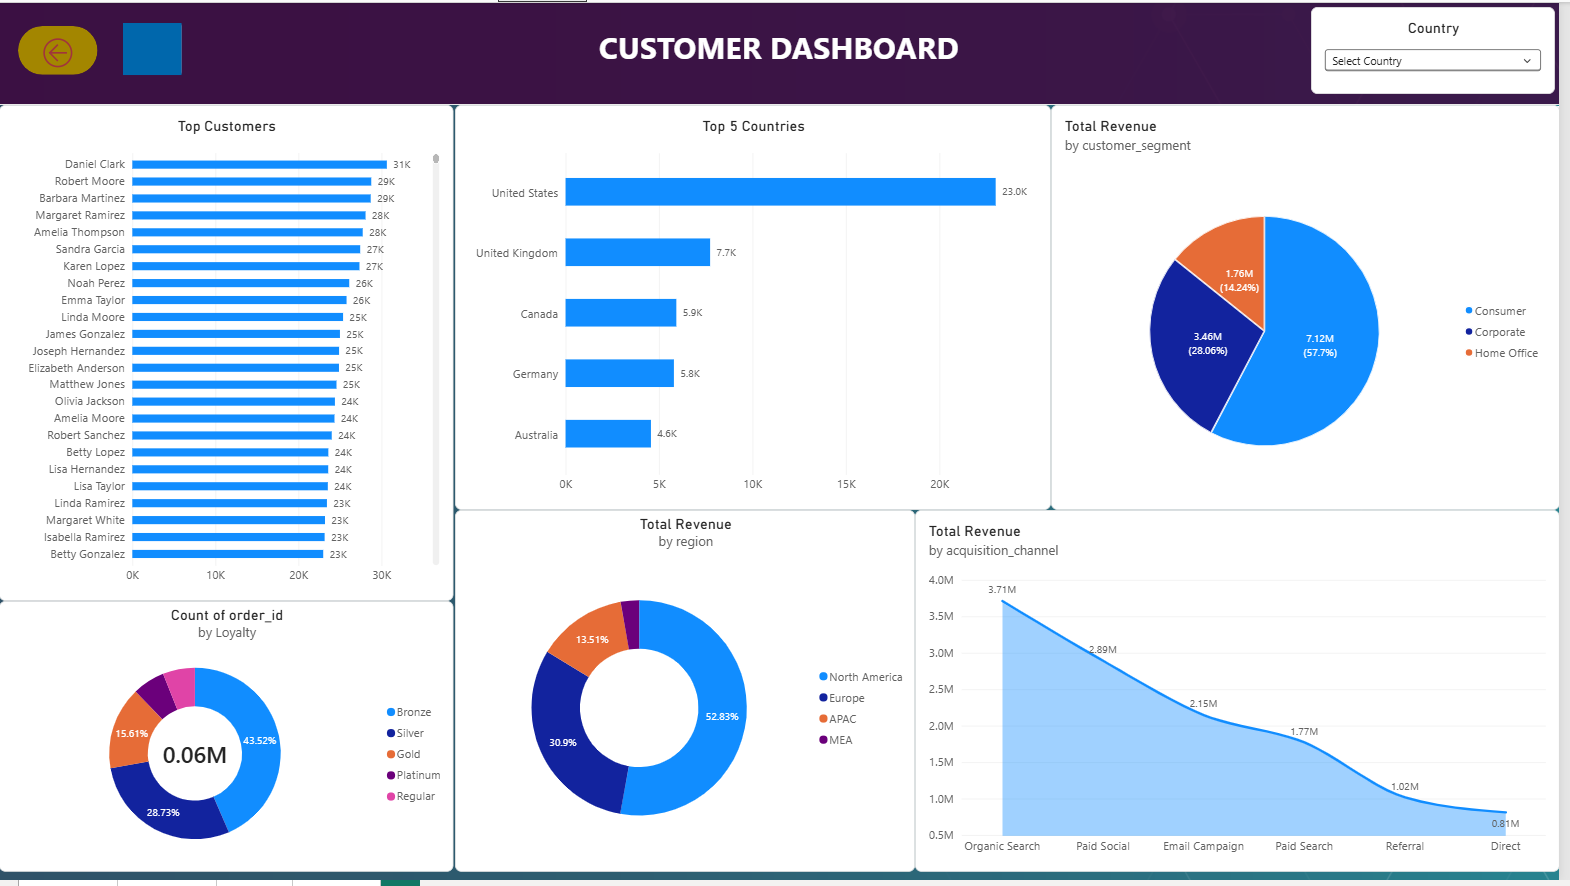

This screenshot's page, from the dashboard's own definition file:
{"tool":"powerbi","page":{"name":"Customers","canvas":[1920,1080],"ordinal":1},"visuals":[{"type":"barChart","title":"Top Customers","fields":{"Category":["Customers.full_name"],"Y":["Orders.Total Revenue"]},"box":[0,126.5,558.6,610],"z":0},{"type":"shape","box":[0,0,1920,126.5],"z":1000},{"type":"listSlicer","fields":{"Values":["Customers.country"]},"box":[1613.5,6.5,300,107],"z":2000},{"type":"actionButton","box":[23.5,30,97.8,60],"z":3000},{"type":"textbox","box":[710.9,30,497,80.9],"z":4000},{"type":"donutChart","fields":{"Category":["Customers.loyalty_tier"],"Y":["CountNonNull(Orders.order_id)"]},"box":[0,737,559,333],"z":5000},{"type":"clusteredBarChart","title":"Top 5 Countries","fields":{"Category":["Customers.country"],"Y":["CountNonNull(Orders.order_id)"]},"box":[560.9,126.5,733,498.3],"z":6000},{"type":"pieChart","fields":{"Category":["Customers.region"],"Y":["Orders.Total Revenue"]},"box":[560.9,624.8,566.1,444.8],"z":7000},{"type":"pieChart","fields":{"Category":["Customers.customer_segment"],"Y":["Orders.Total Revenue"]},"box":[1293.9,126.5,626.1,498.3],"z":8000},{"type":"areaChart","fields":{"Category":["Customers.acquisition_channel"],"Y":["Orders.Total Revenue"]},"box":[1126.8,624.4,793.2,444.8],"z":9000},{"type":"actionButton","box":[152.7,25.5,72.4,64.3],"z":10000}]}

Visuals, with their boxes in screenshot pixels (x1, y1, x2, y2), scaled from the page's 1920x1080 canvas onto the 1570x886 screenshot:
"Top Customers" barChart: [x1=0, y1=104, x2=457, y2=604]
shape: [x1=0, y1=0, x2=1569, y2=104]
listSlicer - Customers.country: [x1=1319, y1=5, x2=1565, y2=93]
actionButton: [x1=19, y1=25, x2=99, y2=74]
textbox: [x1=581, y1=25, x2=988, y2=91]
donutChart - Customers.loyalty_tier x CountNonNull(Orders.order_id): [x1=0, y1=605, x2=457, y2=878]
"Top 5 Countries" clusteredBarChart: [x1=459, y1=104, x2=1058, y2=513]
pieChart - Customers.region x Orders.Total Revenue: [x1=459, y1=513, x2=922, y2=877]
pieChart - Customers.customer_segment x Orders.Total Revenue: [x1=1058, y1=104, x2=1569, y2=513]
areaChart - Customers.acquisition_channel x Orders.Total Revenue: [x1=921, y1=512, x2=1569, y2=877]
actionButton: [x1=125, y1=21, x2=184, y2=74]
